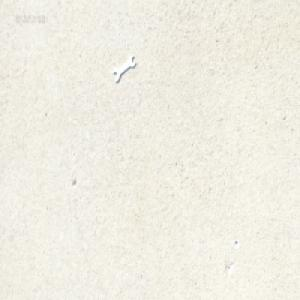Wrench: (113, 57, 135, 85)
